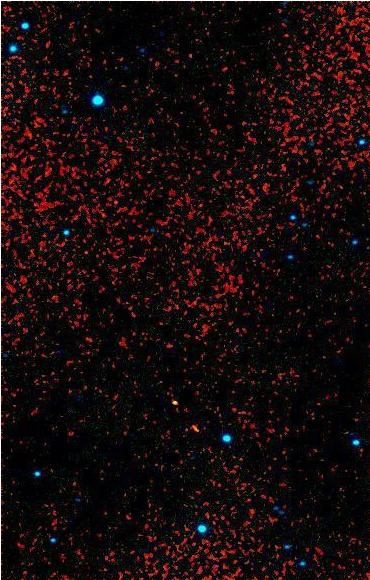star: (160, 388, 190, 418)
